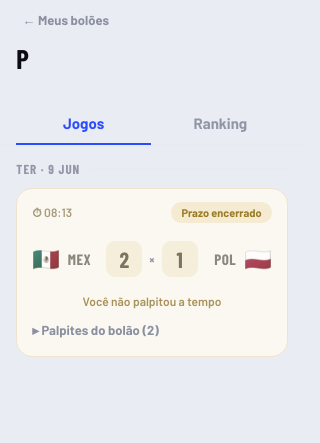
Test: PoolPage › post-kickoff fixture: fetches pool picks and lists them expanded
The width and height of the screenshot is (320, 443).
Click the button "▸ Palpites do bolão (2)". click: point(152, 330)
box: [32,318,272,342]
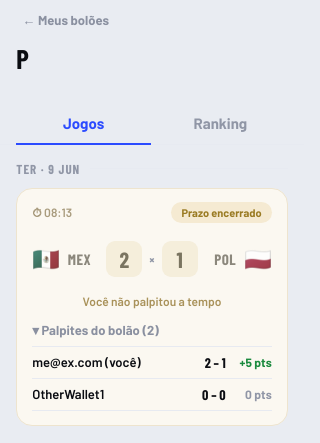
Expected: the text "me@ex.com (você)" is shown, [32,354,141,370]
Expected: the text "OtherWallet1" is shown, [32,386,104,402]
Expected: the text "+5 pts" is shown, [240,355,272,369]
